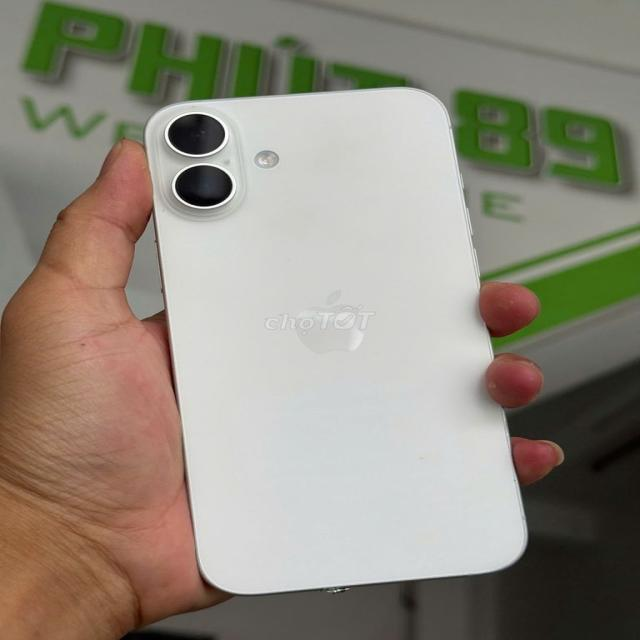gen_16: (145, 88, 526, 594)
